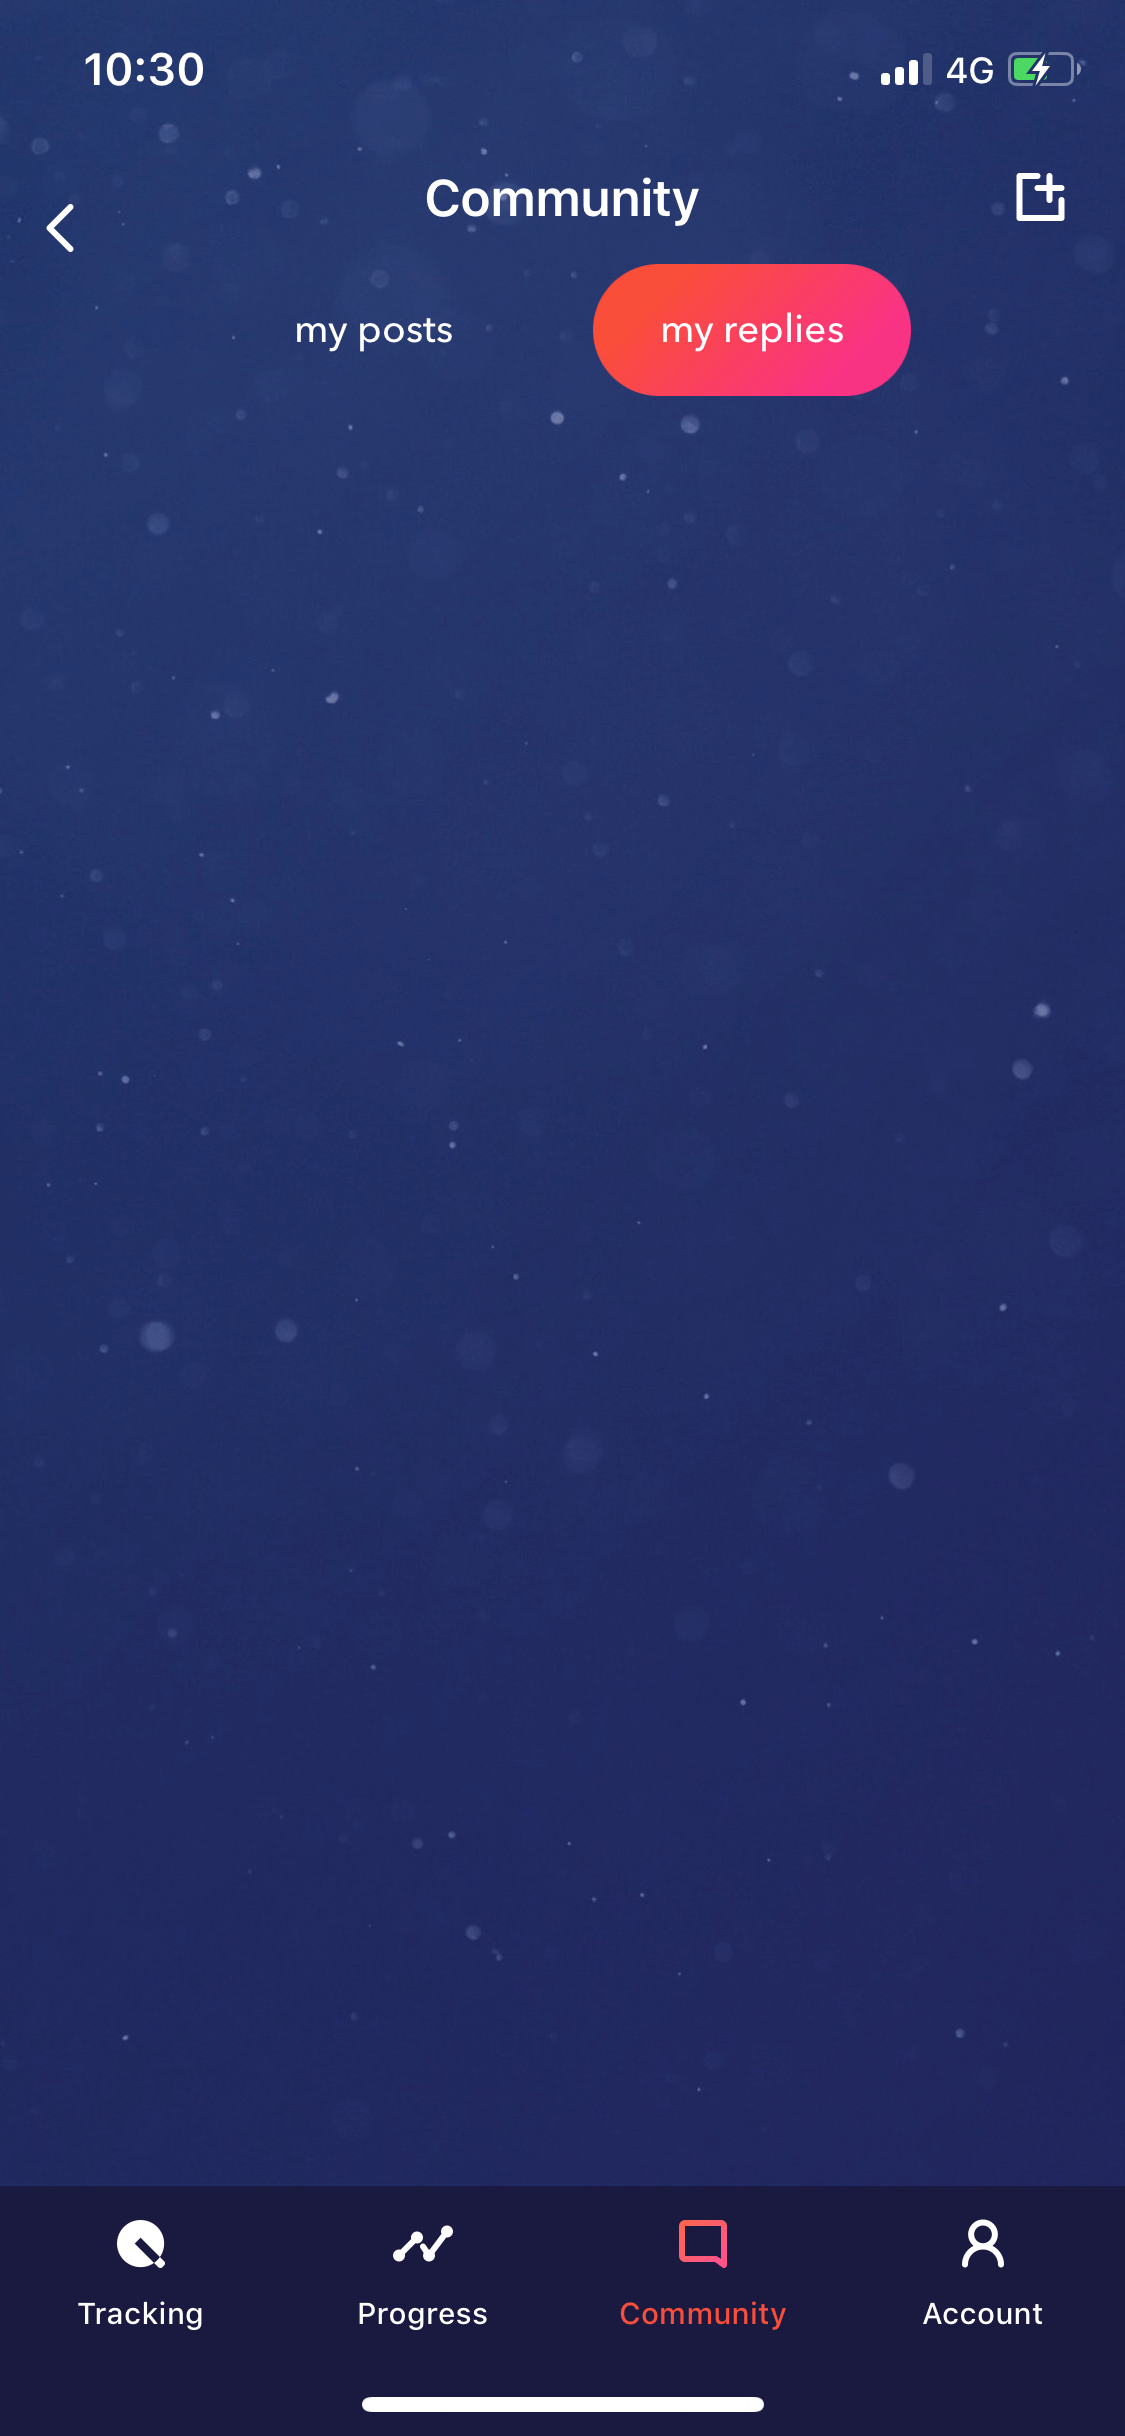Buttons: (9, 151, 127, 286), (979, 151, 1100, 256)
